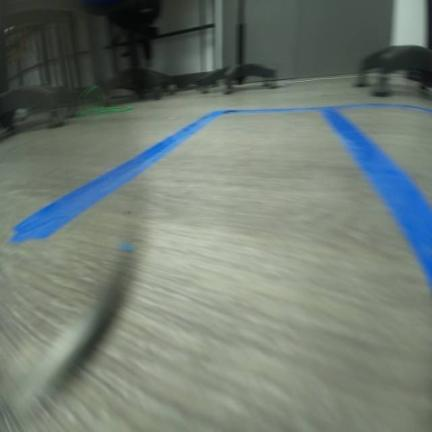place: (2, 104, 431, 290), (317, 101, 431, 290)
